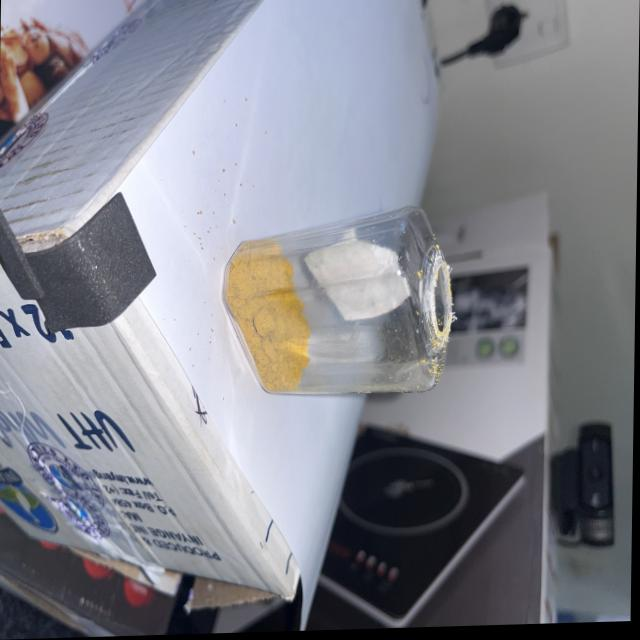curry_powder: (221, 238, 309, 395)
